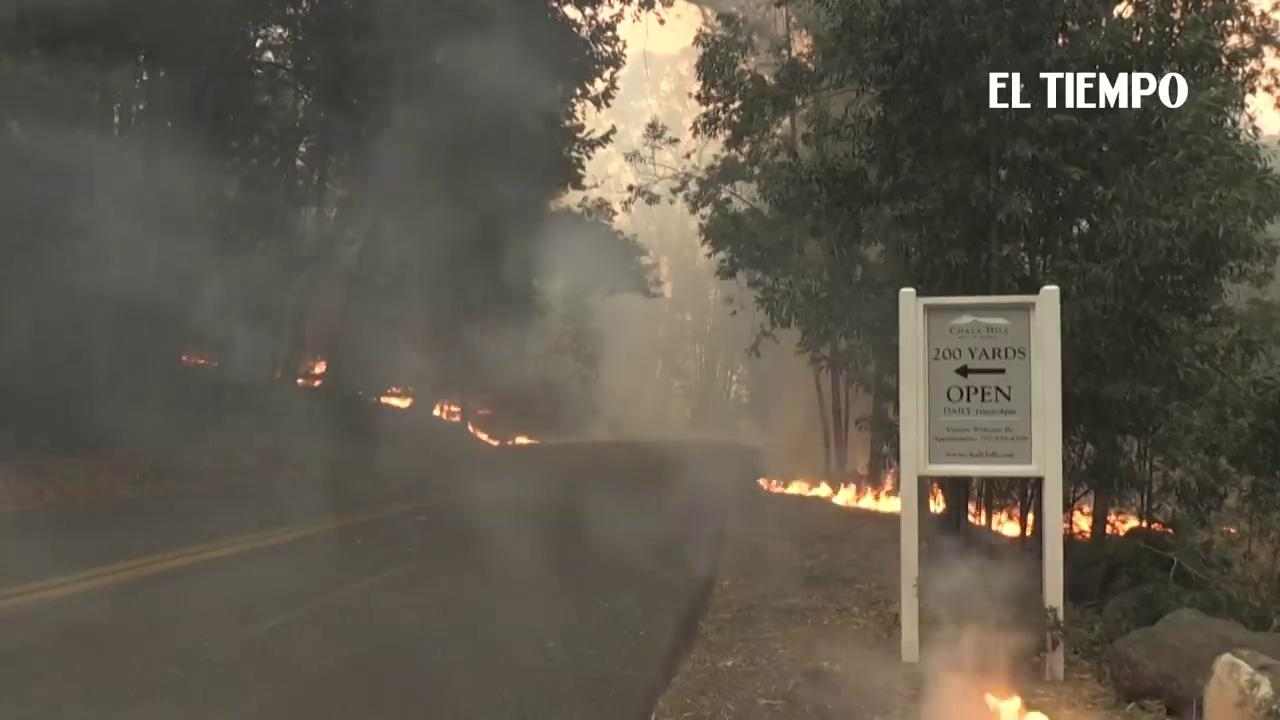Fire: (761, 466, 903, 519), (969, 498, 1032, 538), (985, 690, 1050, 720), (1111, 508, 1174, 535), (465, 423, 503, 446), (1072, 503, 1095, 539), (382, 393, 417, 413), (433, 398, 462, 420), (928, 488, 945, 512), (509, 433, 536, 446), (313, 360, 328, 375)
